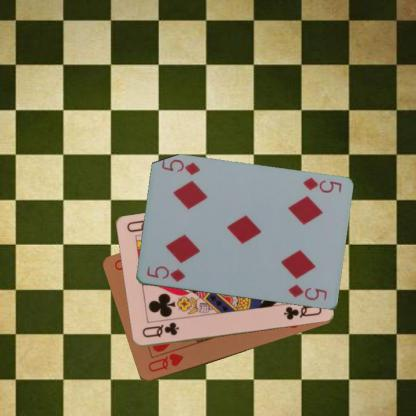5d: (300, 175, 342, 195), (144, 264, 186, 283)
Qc: (139, 320, 180, 339)
Qh: (145, 351, 184, 374)
